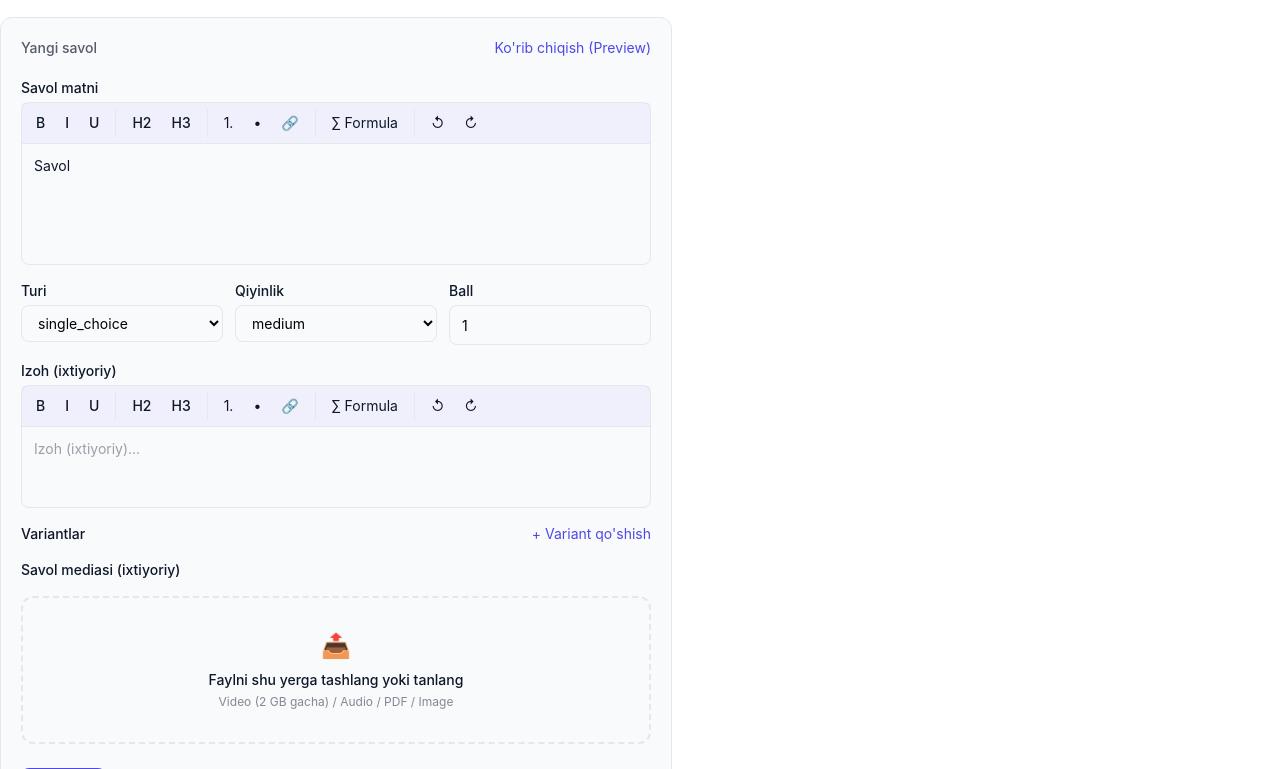
Test case: QuestionFormPage — conditional option-set validation (approved decision 7) › rejects fewer than 2 options for a choice-type question
Click the button "+ Variant qo'shish".
click(591, 534)  # box [532,524,651,544]
(page scrolled)
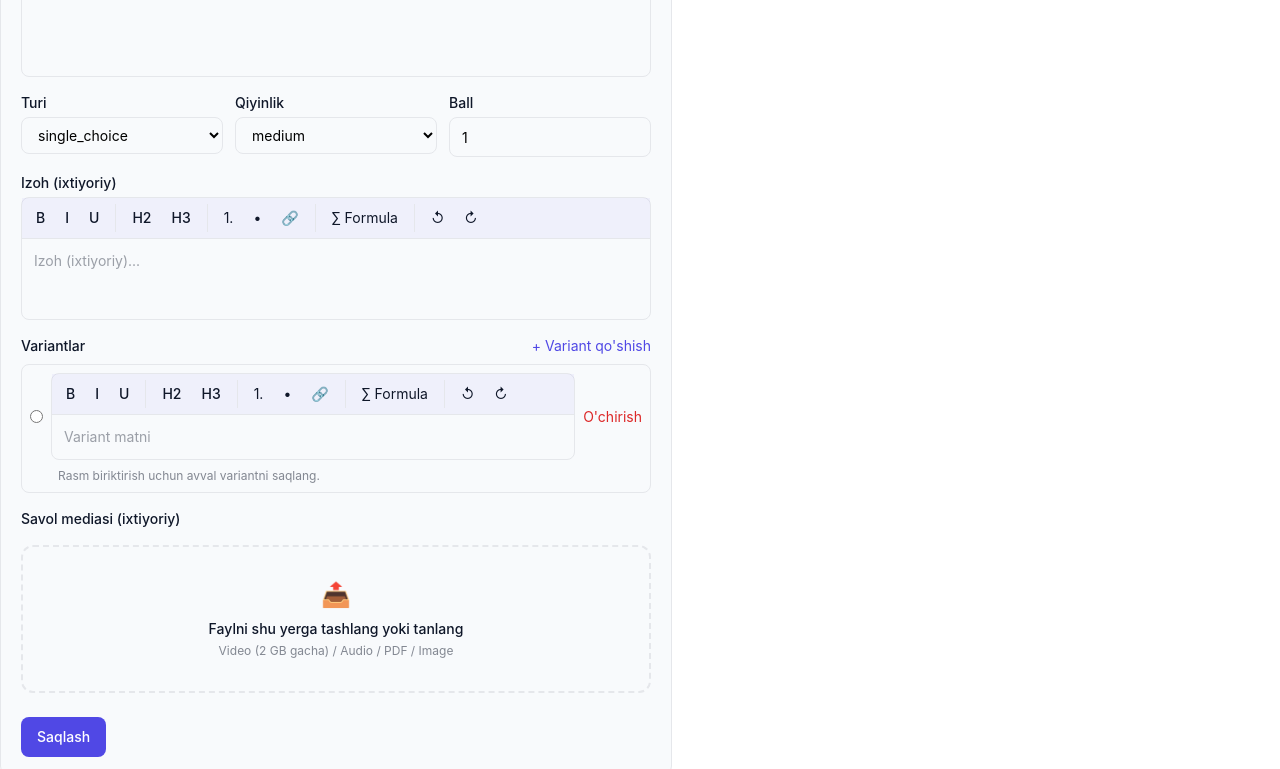
Click the button "Saqlash".
click(64, 737)  # box [21,717,106,757]
(page scrolled)
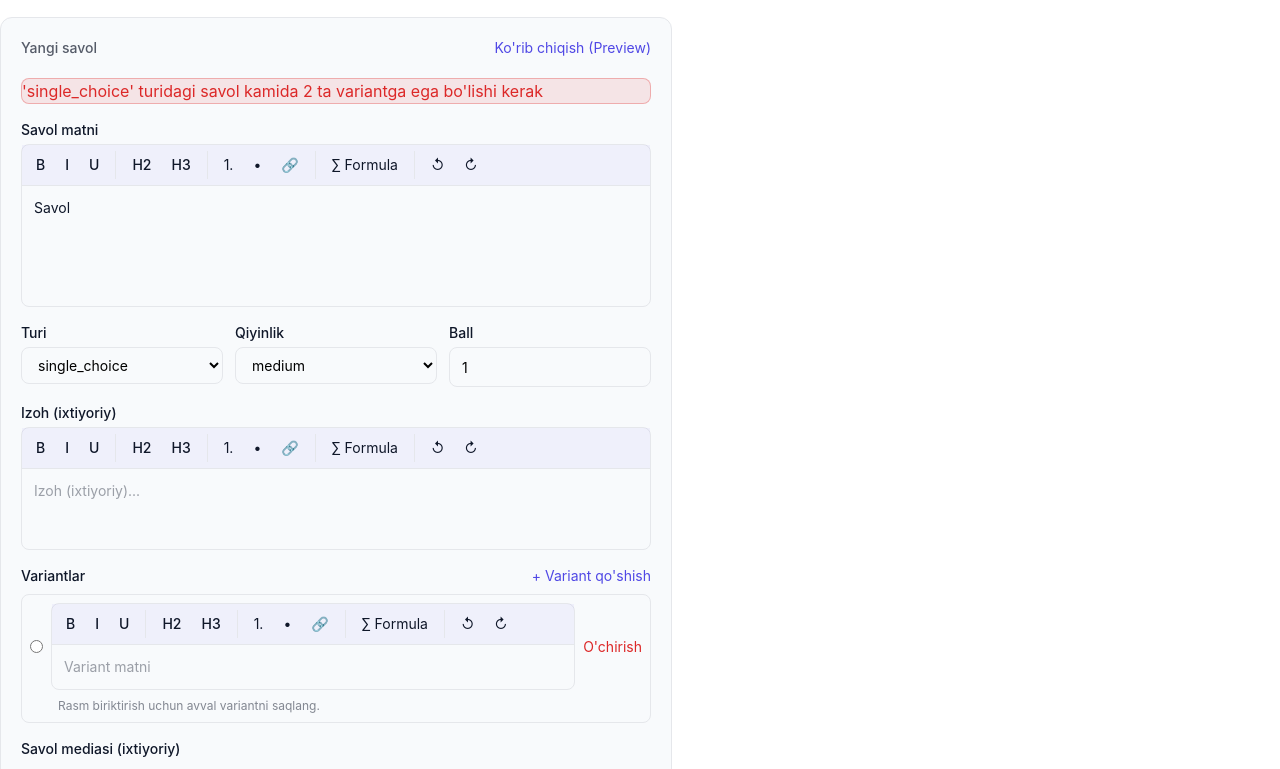
Expected: the text "kamida 2 ta variantga ega bo'lishi kerak" is shown, [22,81,543,101]
